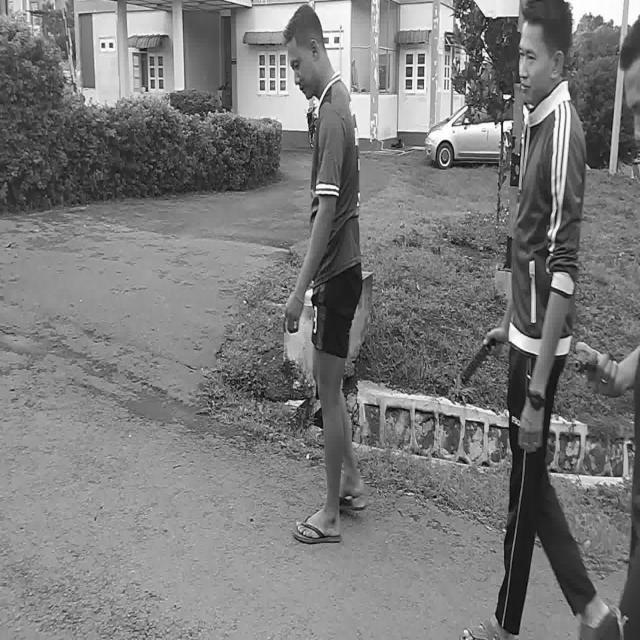gun: (572, 349, 590, 372)
